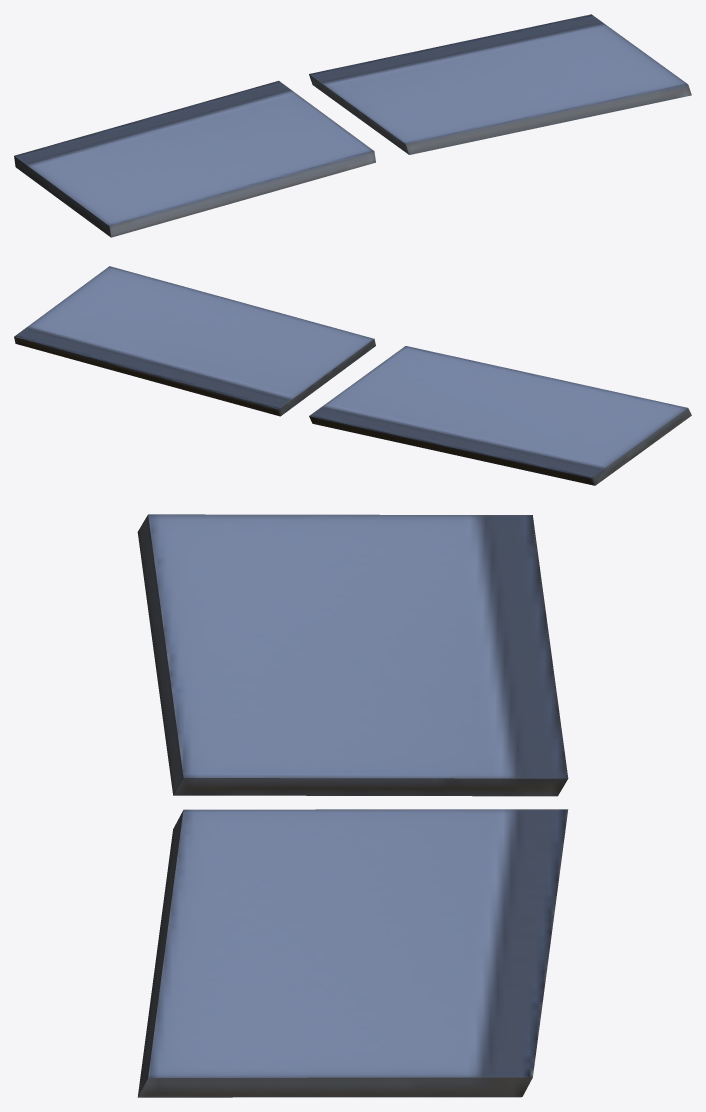
Rendered from FordF700ArmoredWindshield_WorldItem.fbx.
3 renders of one model, top to bottom at view 1: azimuth 30°, elevation 25°; view 2: azimuth 150°, elevation 25°; view 3: azimuth 270°, elevation 25°, orthographic. The views are drawn at different scales.
Visible parts, largest first — view 1: Windshield_obj; view 2: Windshield_obj; view 3: Windshield_obj.
Part boxes in pixels (box(x1,y1,x2,y2)): Windshield_obj: box(14, 14, 691, 237); Windshield_obj: box(14, 266, 691, 485); Windshield_obj: box(137, 514, 568, 1097).
Size of the model in its own units: 2.74 by 0.0504 by 0.8794.
